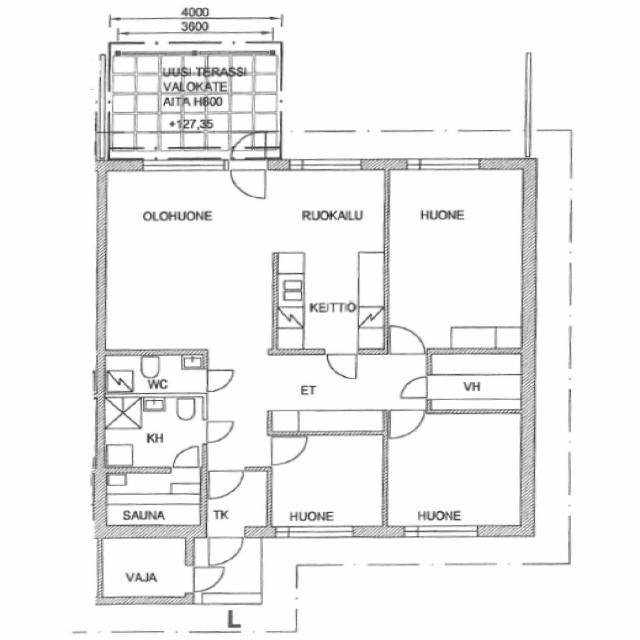door: (224, 156, 273, 204), (202, 532, 246, 569), (385, 321, 429, 357), (265, 432, 310, 467), (322, 348, 362, 384), (384, 407, 427, 440), (205, 467, 248, 500), (264, 419, 306, 452), (199, 364, 240, 396), (188, 563, 227, 596), (198, 416, 238, 446), (395, 373, 433, 404), (167, 442, 204, 470)
window: (133, 154, 226, 176), (90, 55, 112, 132), (284, 155, 367, 175), (275, 524, 362, 543), (404, 523, 489, 541), (406, 155, 487, 173), (562, 236, 580, 290), (562, 300, 578, 339), (561, 364, 577, 398)
zone: (101, 171, 276, 351), (383, 165, 527, 353), (274, 173, 387, 356), (104, 49, 283, 154), (382, 408, 526, 534), (295, 564, 521, 640), (101, 351, 207, 471), (268, 432, 386, 534), (98, 534, 195, 605), (102, 469, 205, 534), (426, 349, 524, 416), (200, 466, 272, 538), (267, 409, 301, 436)
